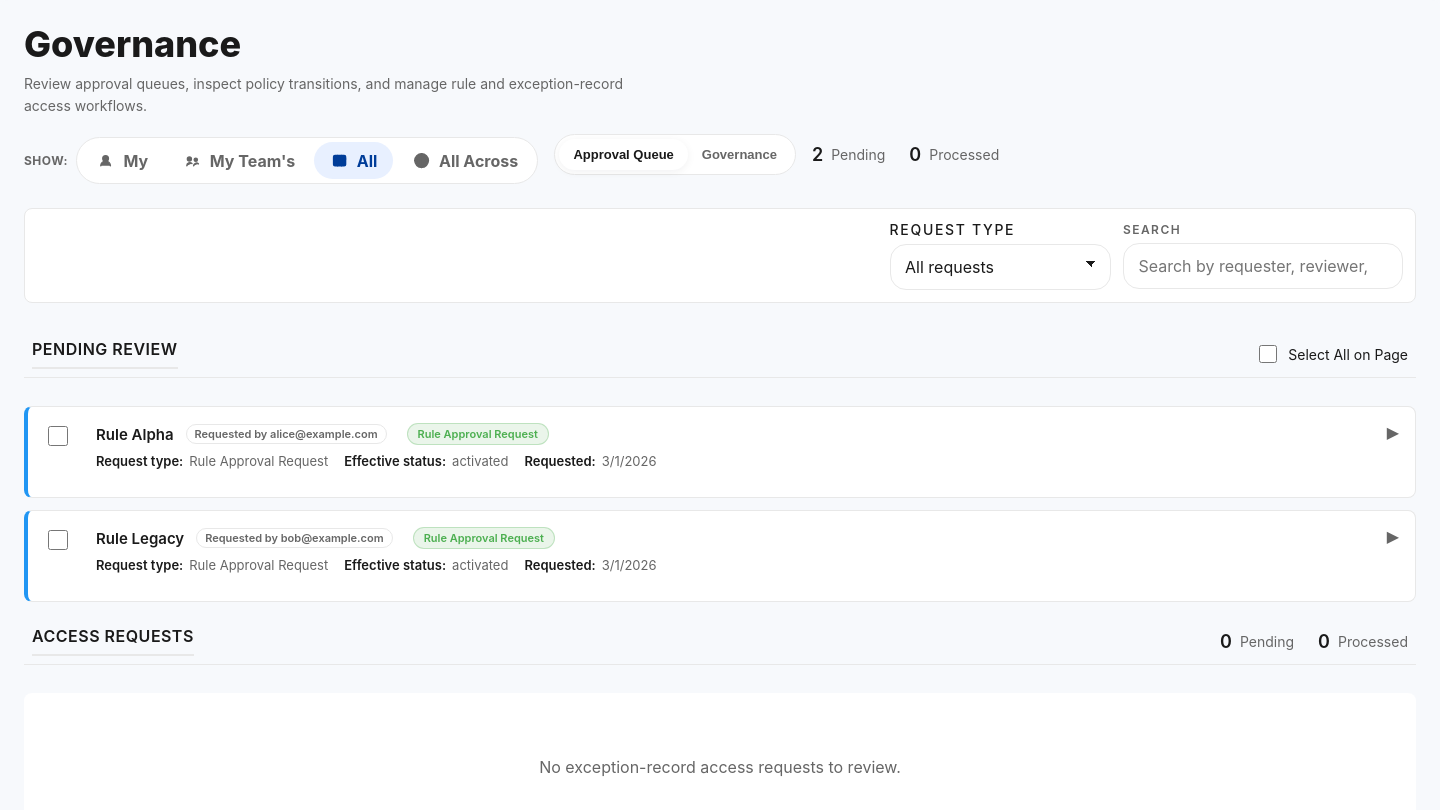
Test: Approvals requester canonical contract › lets the user switch approval scope inline
The width and height of the screenshot is (1440, 810).
Expected: the heading "Rule Alpha" is shown, [96,425,174,444]
Expected: the heading "Rule Legacy" is shown, [96,529,184,548]
Click the tab "My" at [122, 161], box [81,142,163,179]
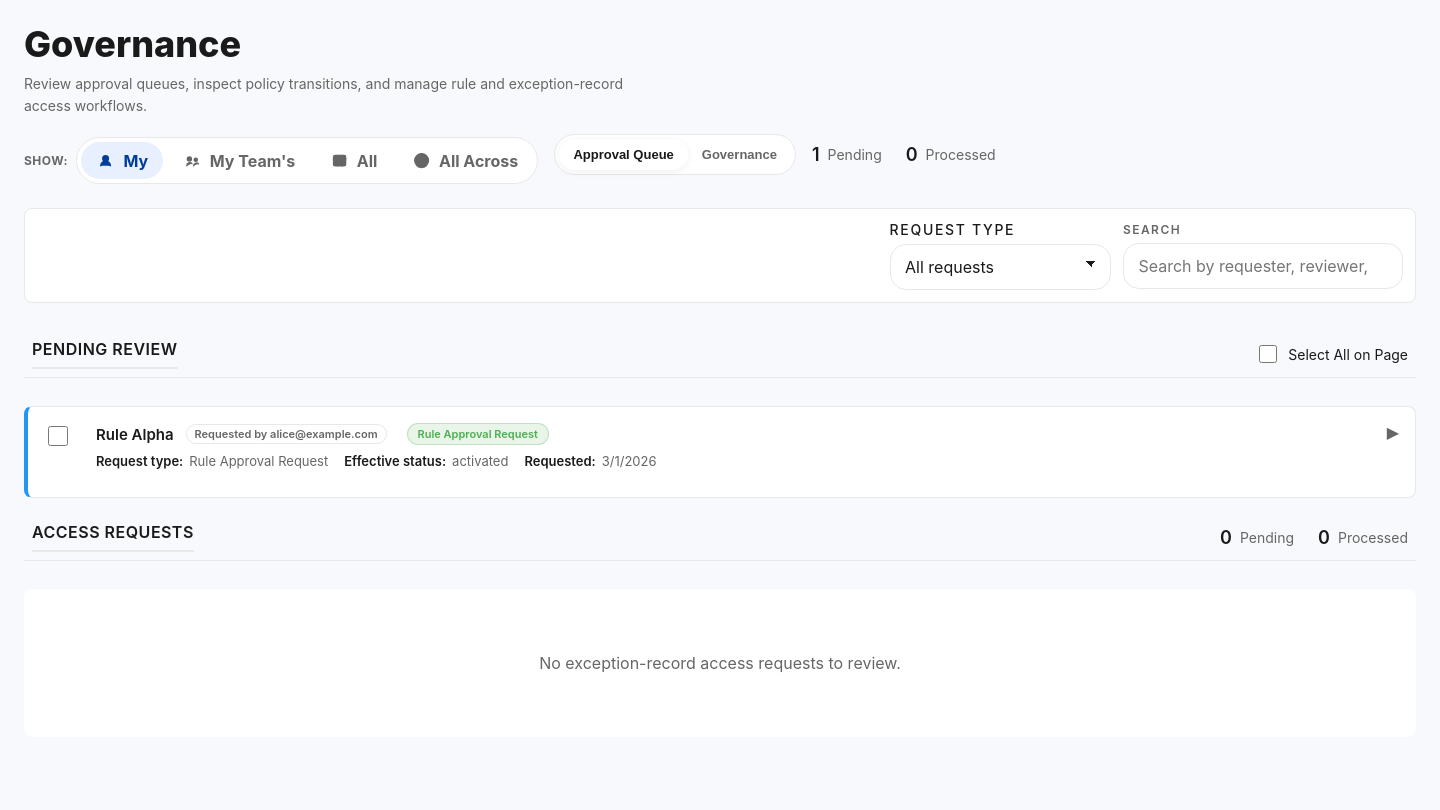
Expected: the heading "Rule Alpha" is shown, [96,425,174,444]
Expected: the heading "Rule Legacy" is gone
Click the tab "My Team's" at [239, 161], box [167,142,310,179]
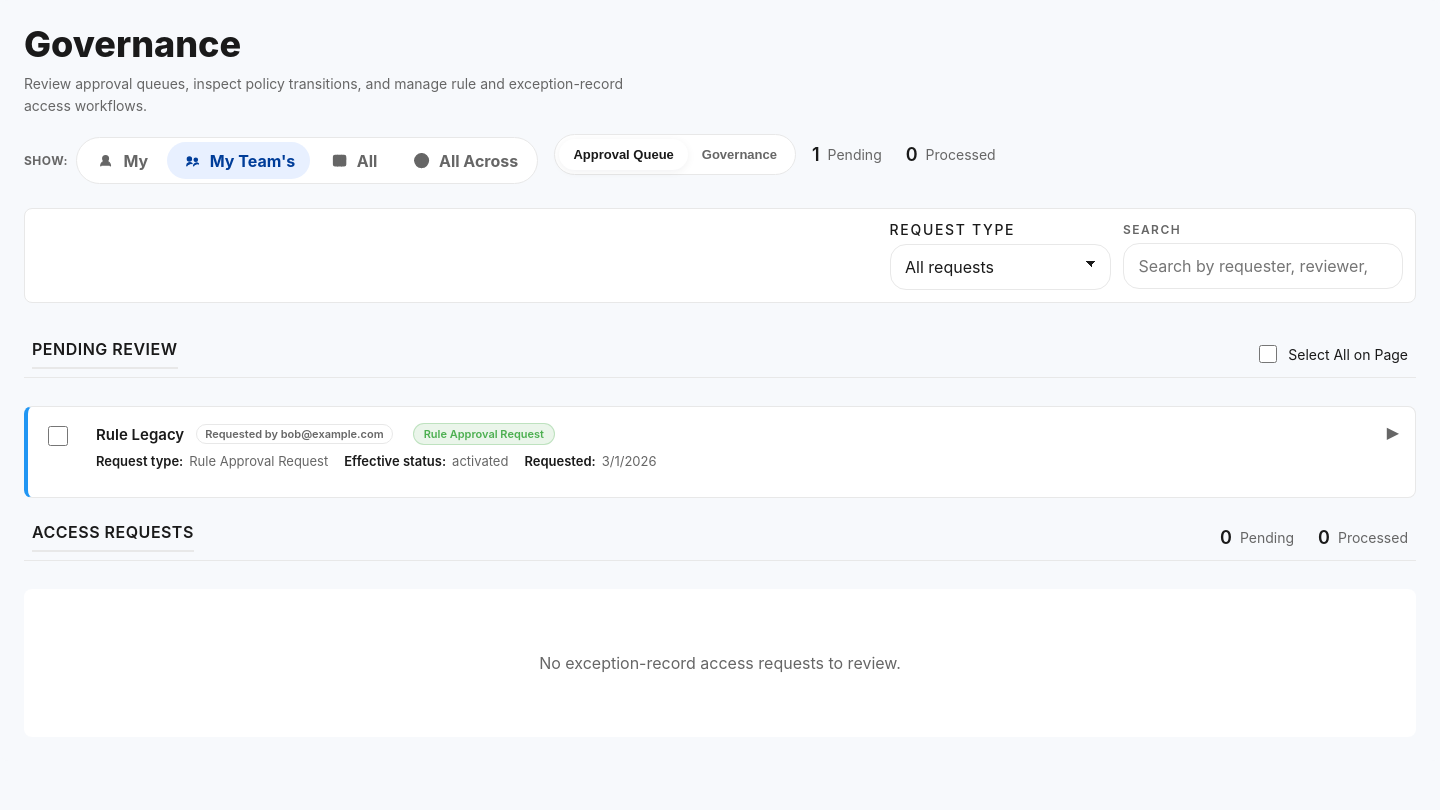
Expected: the heading "Rule Alpha" is gone
Expected: the heading "Rule Legacy" is shown, [96,425,184,444]
